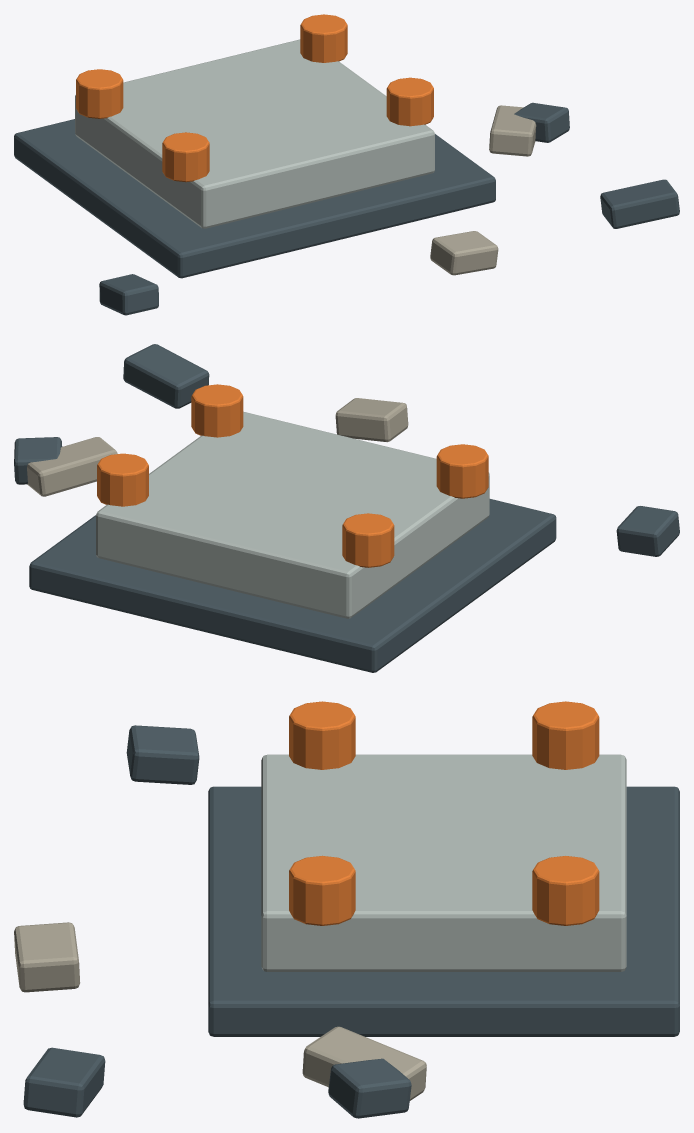
File: assembly_pallet_d2.glb
The picture shows the model from 3 angles, top to bottom: view 1: azimuth 30°, elevation 25°; view 2: azimuth 150°, elevation 25°; view 3: azimuth 270°, elevation 25°; orthographic projection. The views are drawn at different scales.
Visible parts, largest first — view 1: Rover chassis.014, Fixture pallet.018, Debris fragment.105, Debris fragment.108, Chassis mount.056, Chassis mount.057, Chassis mount.058, Chassis mount.059, Debris fragment.109, Debris fragment.106, Debris fragment.107; view 2: Rover chassis.014, Fixture pallet.018, Debris fragment.105, Debris fragment.106, Debris fragment.108, Chassis mount.056, Chassis mount.057, Chassis mount.058, Debris fragment.109, Chassis mount.059, Debris fragment.107; view 3: Rover chassis.014, Fixture pallet.018, Debris fragment.105, Chassis mount.059, Chassis mount.058, Chassis mount.057, Debris fragment.108, Chassis mount.056, Debris fragment.107, Debris fragment.109, Debris fragment.106.
Boxes of the visible parts, left/top/right/bottom form: Rover chassis.014: left=75, top=39, right=434, bottom=228; Fixture pallet.018: left=14, top=119, right=495, bottom=278; Debris fragment.105: left=600, top=179, right=679, bottom=228; Debris fragment.108: left=430, top=231, right=498, bottom=275; Chassis mount.056: left=162, top=132, right=209, bottom=182; Chassis mount.057: left=76, top=69, right=123, bottom=118; Chassis mount.058: left=386, top=77, right=433, bottom=126; Chassis mount.059: left=300, top=14, right=347, bottom=62; Debris fragment.109: left=99, top=274, right=158, bottom=315; Debris fragment.106: left=489, top=105, right=536, bottom=156; Debris fragment.107: left=514, top=102, right=569, bottom=142; Rover chassis.014: left=96, top=411, right=489, bottom=618; Fixture pallet.018: left=29, top=499, right=556, bottom=672; Debris fragment.105: left=123, top=344, right=209, bottom=408; Debris fragment.106: left=27, top=437, right=117, bottom=496; Debris fragment.108: left=335, top=398, right=408, bottom=442; Chassis mount.056: left=436, top=444, right=488, bottom=498; Chassis mount.057: left=342, top=513, right=394, bottom=567; Chassis mount.058: left=191, top=384, right=243, bottom=437; Debris fragment.109: left=616, top=506, right=679, bottom=556; Chassis mount.059: left=97, top=453, right=148, bottom=506; Debris fragment.107: left=14, top=437, right=62, bottom=484; Rover chassis.014: left=261, top=754, right=626, bottom=971; Fixture pallet.018: left=208, top=786, right=679, bottom=1036; Debris fragment.105: left=23, top=1047, right=105, bottom=1117; Chassis mount.059: left=532, top=856, right=599, bottom=925; Chassis mount.058: left=289, top=855, right=355, bottom=925; Chassis mount.057: left=532, top=701, right=599, bottom=769; Debris fragment.108: left=14, top=922, right=80, bottom=992; Chassis mount.056: left=289, top=701, right=355, bottom=769; Debris fragment.107: left=328, top=1058, right=411, bottom=1118; Debris fragment.109: left=126, top=725, right=199, bottom=784; Debris fragment.106: left=302, top=1026, right=426, bottom=1100.
Bounding box in the file's own units: 2.84 × 0.5105 × 2.19.
